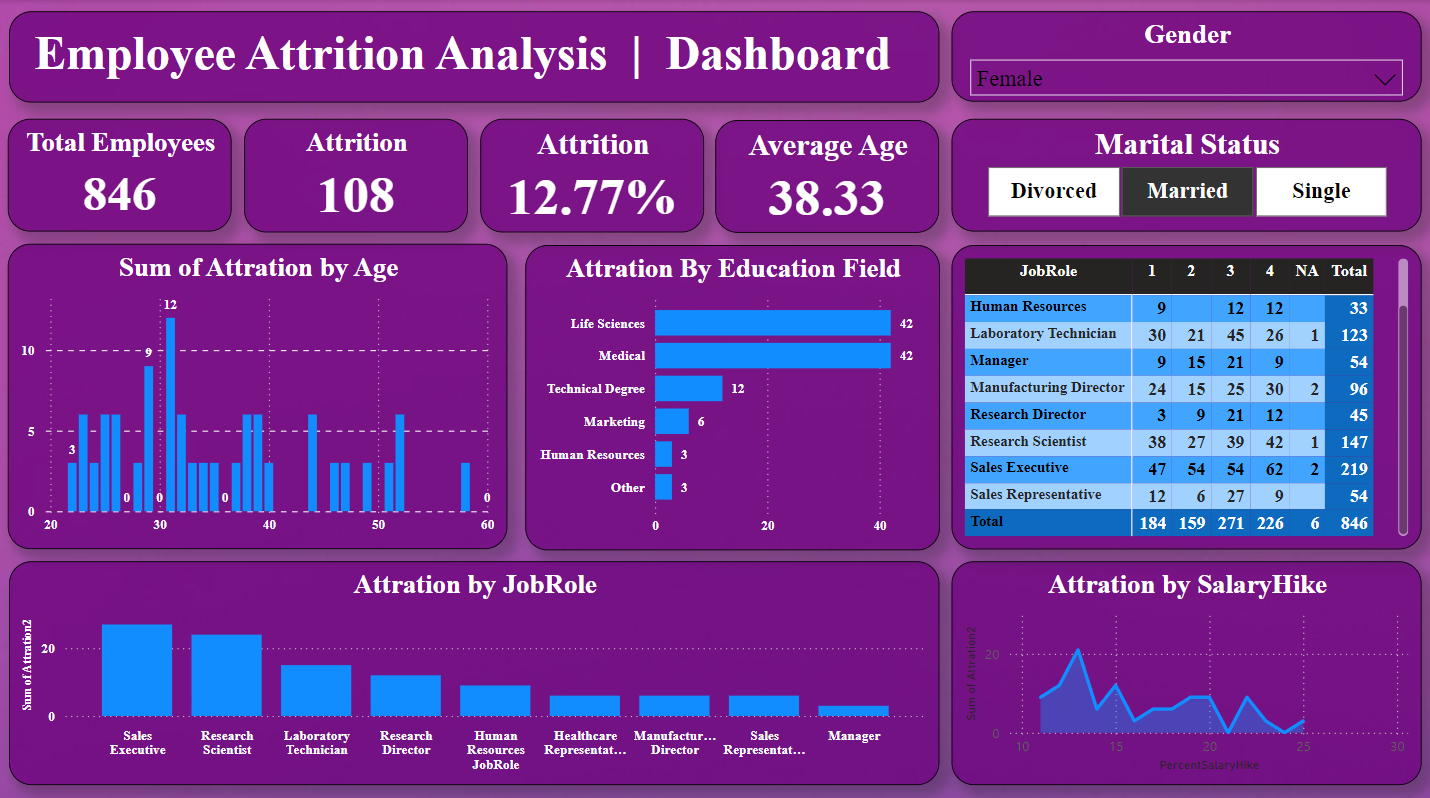

The page's visual inventory and layout, read from the dashboard file:
{"tool":"powerbi","page":{"name":"Page 1","canvas":[1280,720],"ordinal":0},"visuals":[{"type":"card","title":"Total Employees","fields":{"Values":["Sum(Attrition data.EmployeeCount)"]},"box":[8.1,105.8,200,101.2],"z":0},{"type":"card","title":"Attrition","fields":{"Values":["Sum(Attrition data.Attration2)"]},"box":[218.6,105.7,200,101.4],"z":1000},{"type":"card","title":"Attrition","fields":{"Values":["Attrition data.Attrition Percentage"]},"box":[430,105.7,200,101.4],"z":2000},{"type":"card","title":"Average Age","fields":{"Values":["Avg(Attrition data.Age)"]},"box":[640,106.7,200,101.1],"z":3000},{"type":"clusteredBarChart","title":"Attration By Education Field","fields":{"Category":["Attrition data.EducationField"],"Y":["Sum(Attrition data.Attration2)"]},"box":[470,218.6,370,272.9],"z":4000},{"type":"columnChart","title":"Sum of Attration by Age","fields":{"Category":["Attrition data.Age"],"Y":["Sum(Attrition data.Attration2)"]},"box":[8.2,218.2,446.5,272.9],"z":5000},{"type":"textbox","box":[8.6,10,831.4,81.4],"z":6000},{"type":"columnChart","title":"Attration by JobRole","fields":{"Y":["Sum(Attrition data.Attration2)"],"Category":["Attrition data.JobRole"]},"box":[8.9,501.1,831.1,200],"z":7000},{"type":"areaChart","title":"Attration by SalaryHike","fields":{"Category":["Attrition data.PercentSalaryHike"],"Y":["Sum(Attrition data.Attration2)"]},"box":[851.1,501.1,420,200],"z":8000},{"type":"pivotTable","fields":{"Rows":["Attrition data.JobRole"],"Columns":["Attrition data.JobSatisfaction"],"Values":["Sum(Attrition data.EmployeeCount)"]},"box":[851.1,218.9,420,272.2],"z":9000},{"type":"slicer","title":"Gender","fields":{"Values":["Attrition data.Gender"]},"box":[851.1,10,420,81.1],"z":10000},{"type":"slicer","title":"Marital Status","fields":{"Values":["Attrition data.MaritalStatus"]},"box":[851.1,105.6,420,101.1],"z":11000}]}

Visuals, with their boxes in screenshot pixels (x1, y1, x2, y2), scaled from the page's 1280x720 canvas onto the 1430x798 screenshot:
"Total Employees" card: x1=9, y1=117, x2=232, y2=229
"Attrition" card: x1=244, y1=117, x2=468, y2=230
"Attrition" card: x1=480, y1=117, x2=704, y2=230
"Average Age" card: x1=715, y1=118, x2=938, y2=230
"Attration By Education Field" clusteredBarChart: x1=525, y1=242, x2=938, y2=545
"Sum of Attration by Age" columnChart: x1=9, y1=242, x2=508, y2=544
textbox: x1=10, y1=11, x2=938, y2=101
"Attration by JobRole" columnChart: x1=10, y1=555, x2=938, y2=777
"Attration by SalaryHike" areaChart: x1=951, y1=555, x2=1420, y2=777
pivotTable - Attrition data.JobRole x Attrition data.JobSatisfaction: x1=951, y1=243, x2=1420, y2=544
"Gender" slicer: x1=951, y1=11, x2=1420, y2=101
"Marital Status" slicer: x1=951, y1=117, x2=1420, y2=229
